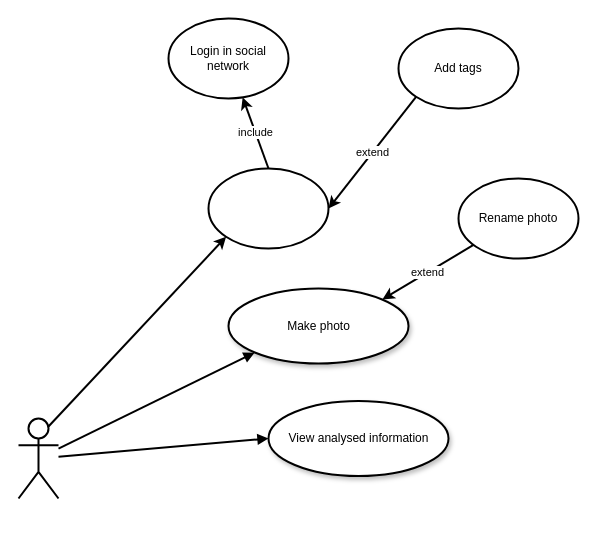
The diagram is 596 pixels wide and 544 high, and some of its shapes have lost their labels. Here are the shapes that lost their labels. From the top down, the centre of each, then its label:
At point 268,208: "Publish Photo".
At point 38,458: "User".
